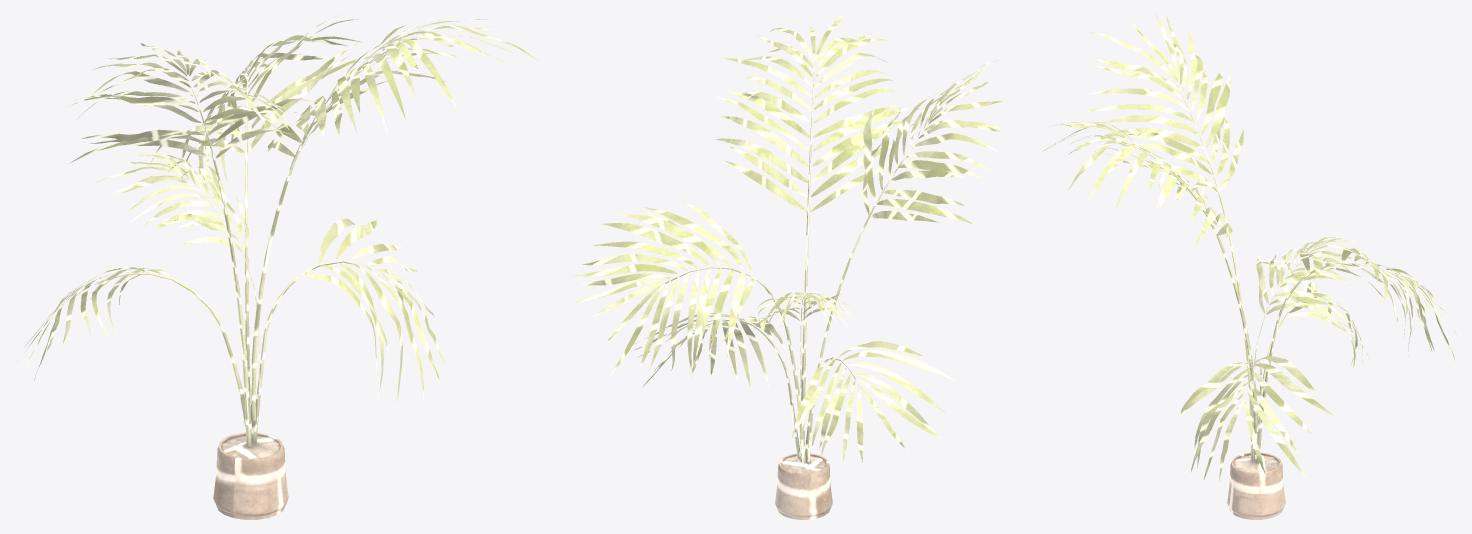
File: SM_PlantF.fbx
3 views of the same model, side by side, from view 1: azimuth 30°, elevation 25°; view 2: azimuth 150°, elevation 25°; view 3: azimuth 270°, elevation 25° (orthographic). The views are drawn at different scales.
Parts seen in each view (by area): view 1: SM_PlantF; view 2: SM_PlantF; view 3: SM_PlantF.
Boxes of the visible parts, x1,y1,x2,y2 form: SM_PlantF: (18, 15, 539, 519); SM_PlantF: (570, 14, 1004, 519); SM_PlantF: (1037, 15, 1456, 519).
Bounding box in the file's own units: 108 × 124 × 138.
Materials: 1 (1 with a texture image).
